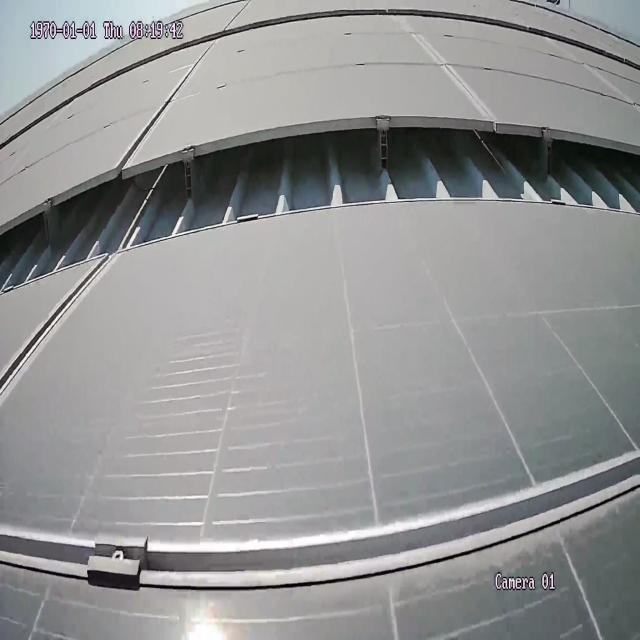interior panel: (0, 442, 640, 584), (0, 268, 108, 415), (114, 50, 208, 156), (394, 22, 496, 114)
outher panel: (0, 117, 638, 295)
